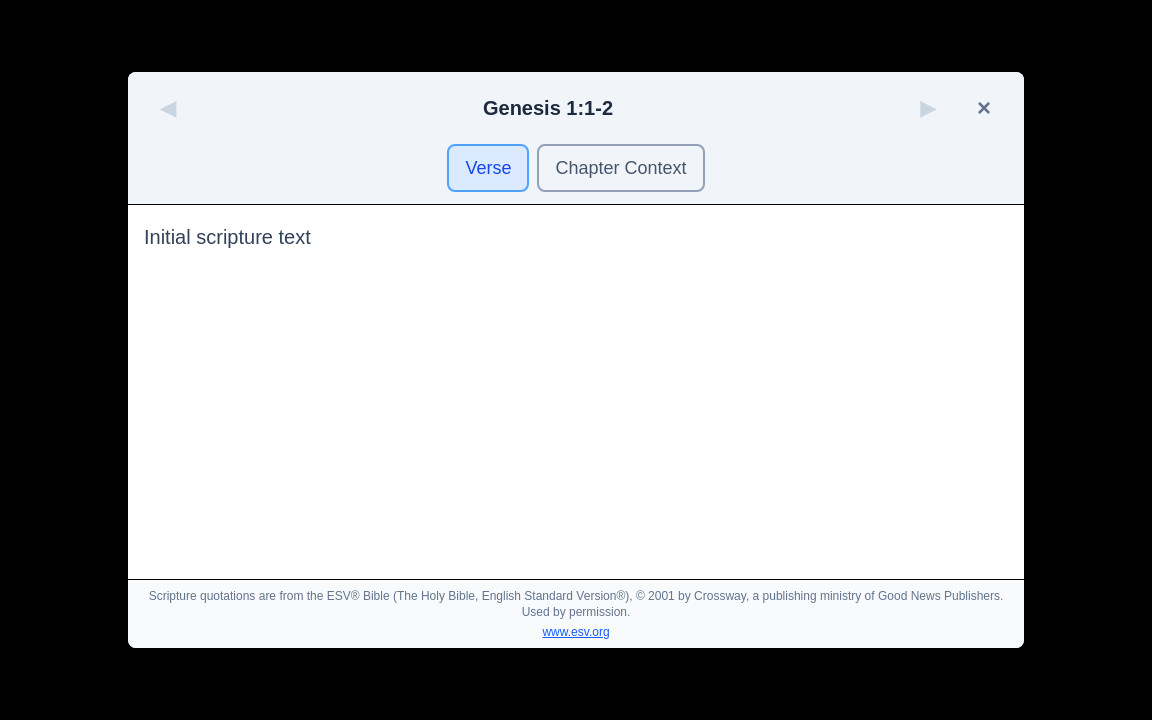
Test: ScriptureModal additional behaviors › fetches chapter context and highlights verses with ids
expect the heading "Genesis 1:1-2" is shown: met, box [483, 96, 613, 118]
Step 1. Click the button "Chapter Context" → point(621, 168), box [538, 144, 705, 192]
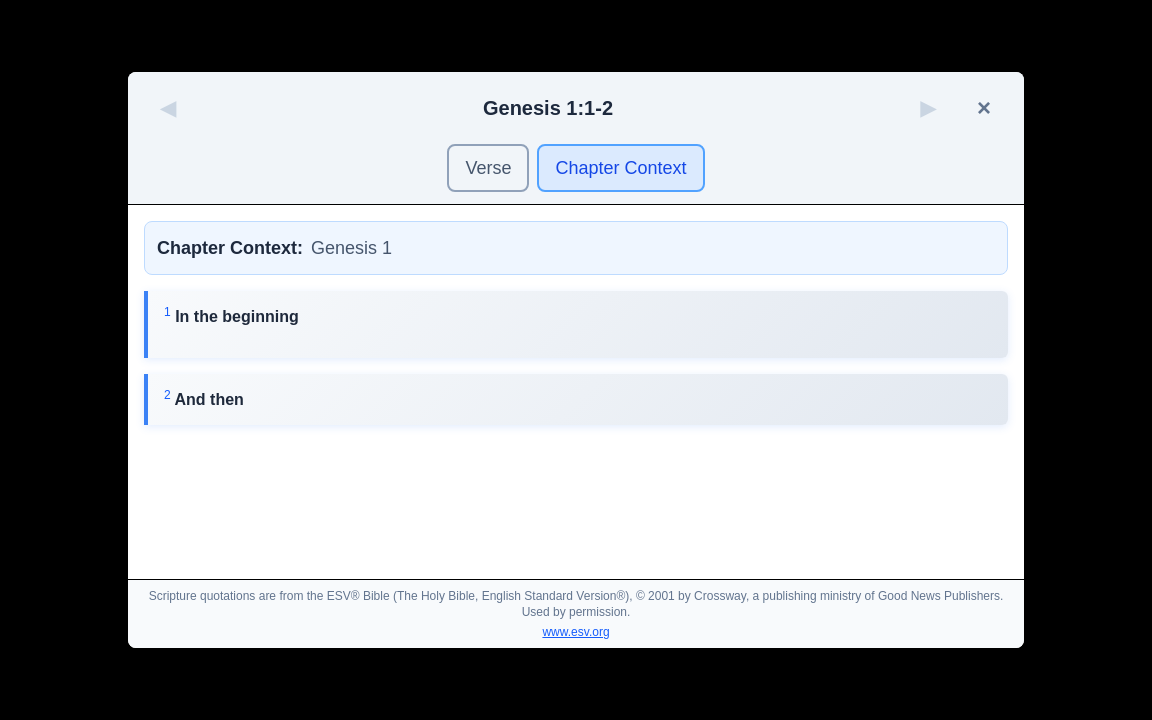
expect the element with id "chapter-content" is shown: met, box [144, 291, 1008, 425]
